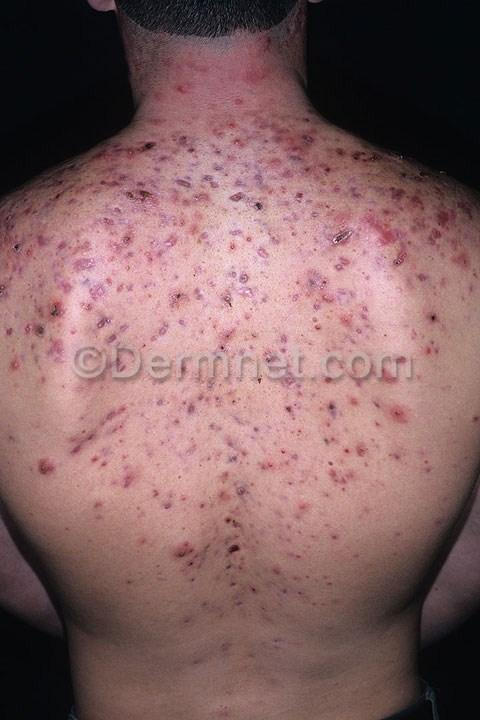Acne: (203, 427, 254, 609), (131, 311, 214, 416), (25, 321, 100, 430), (183, 123, 254, 230), (33, 225, 126, 306), (359, 149, 432, 234), (149, 255, 230, 330), (307, 401, 372, 493), (113, 445, 183, 529), (109, 145, 179, 228), (333, 217, 408, 292), (243, 127, 324, 190), (207, 221, 298, 277), (371, 361, 422, 438), (289, 273, 344, 334), (173, 529, 215, 589)
